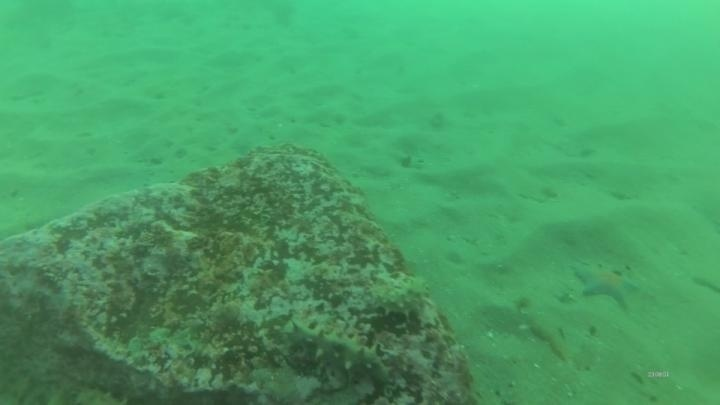holothurian: (281, 315, 396, 393), (365, 272, 433, 321)
starfish: (570, 259, 642, 311)
